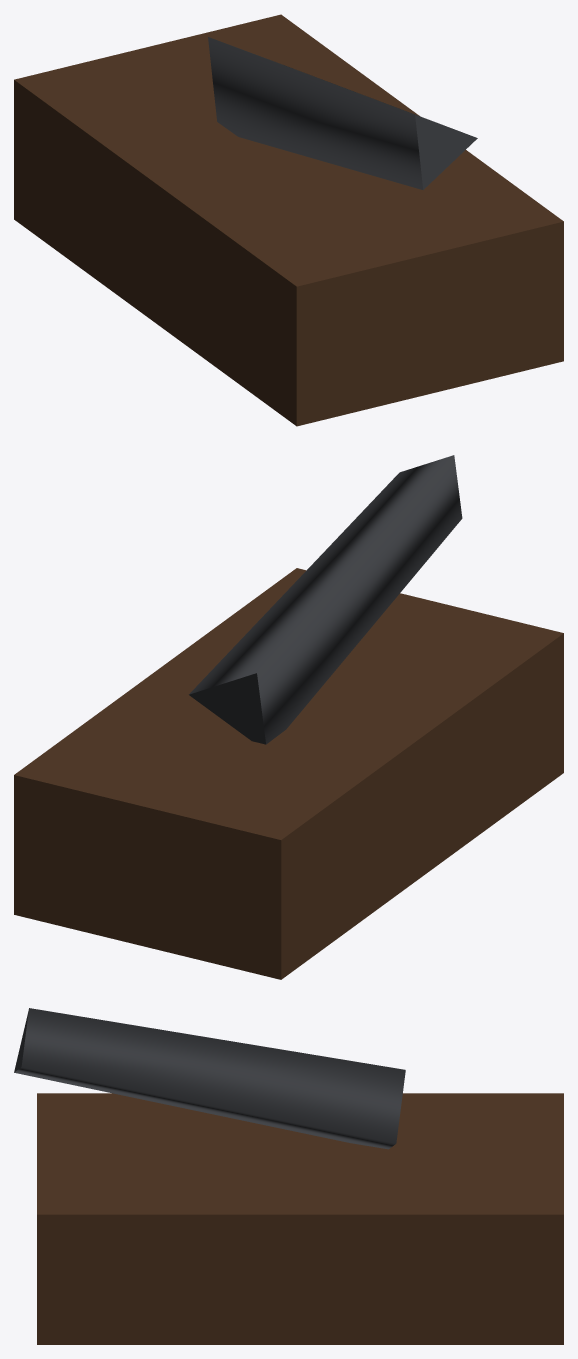
The model's file is unit_mil_gun_a03_lod2.glb.
3 views of the same model, one above another, from view 1: azimuth 30°, elevation 25°; view 2: azimuth 150°, elevation 25°; view 3: azimuth 270°, elevation 25° (orthographic). The views are drawn at different scales.
Visible parts, largest first — view 1: body, barrel; view 2: body, barrel; view 3: body, barrel.
Boxes of the visible parts, x1,y1,x2,y2 form: body: [14, 14, 563, 426]; barrel: [208, 37, 477, 189]; body: [14, 568, 563, 979]; barrel: [189, 455, 462, 744]; body: [37, 1093, 563, 1344]; barrel: [14, 1008, 405, 1149].
Bounding box in the file's own units: 1.2 × 1.23 × 2.3.
